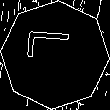L_E: (29, 38, 81, 72)
